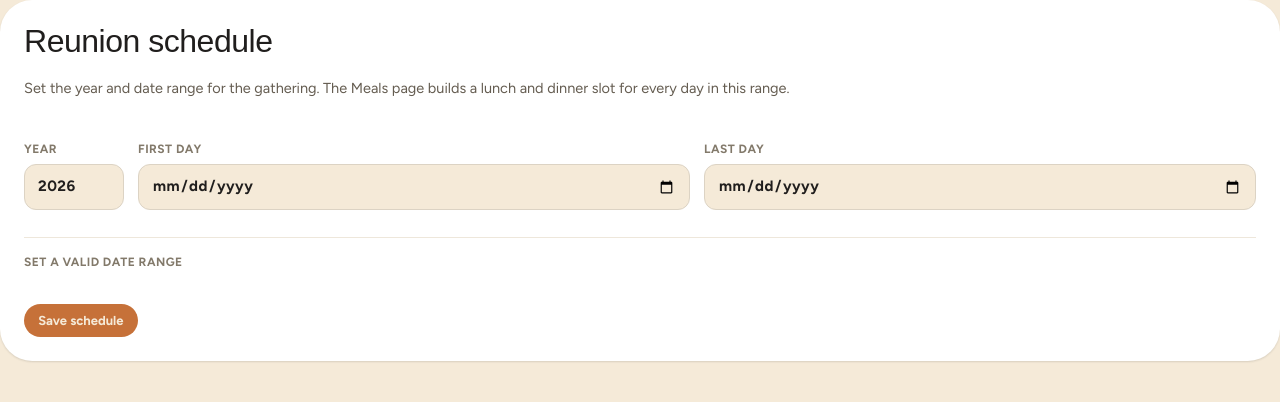
CAP-008 · Setting the reunion dates previews the meal slots › July 1 to July 5 shows "5 days · 10 meal slots" and a tag for each day
Type "2026-07-01" into the date field labelled "First day" at {"x": 414, "y": 187}, box x1=138 y1=164 x2=690 y2=210
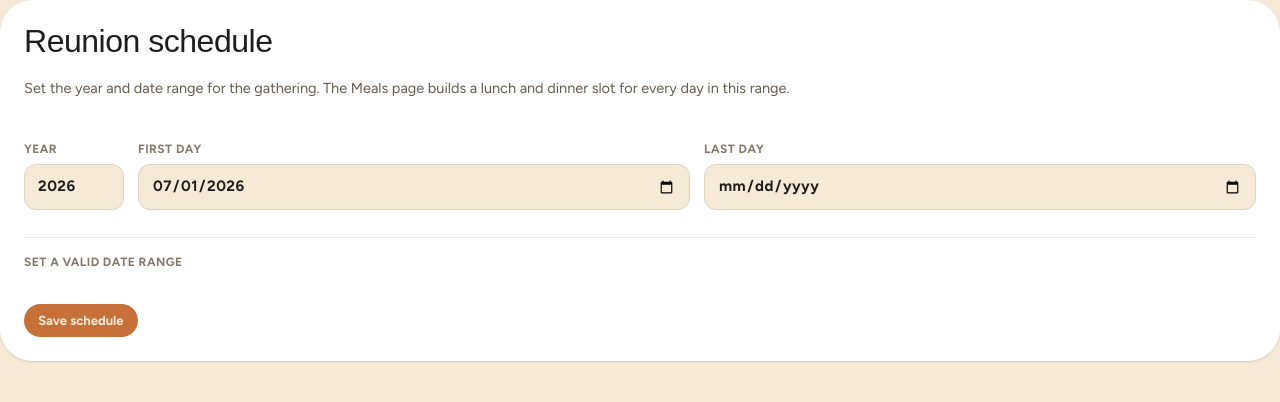
Type "2026-07-05" into the date field labelled "Last day" at {"x": 980, "y": 187}, box x1=704 y1=164 x2=1256 y2=210
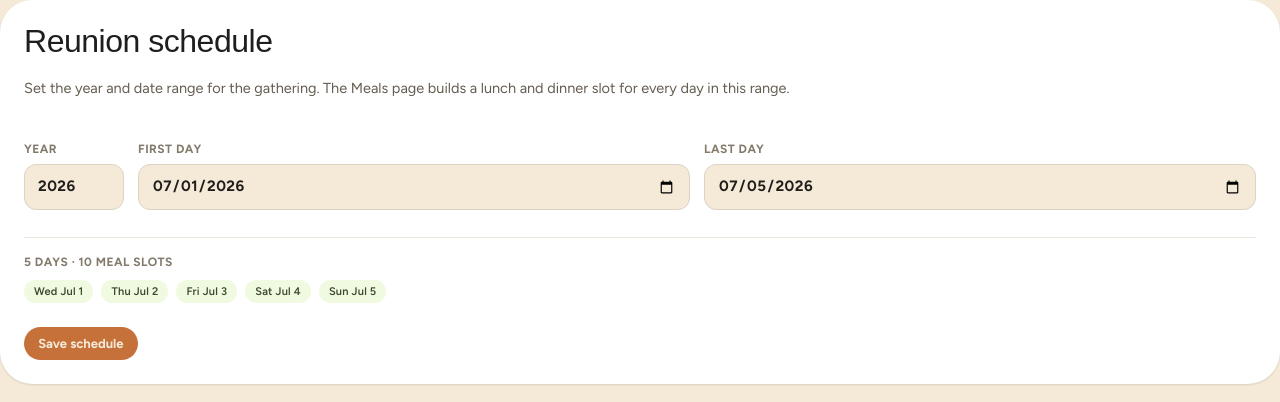
Expected: the text "5 days · 10 meal slots" is shown, x1=24 y1=254 x2=173 y2=268
